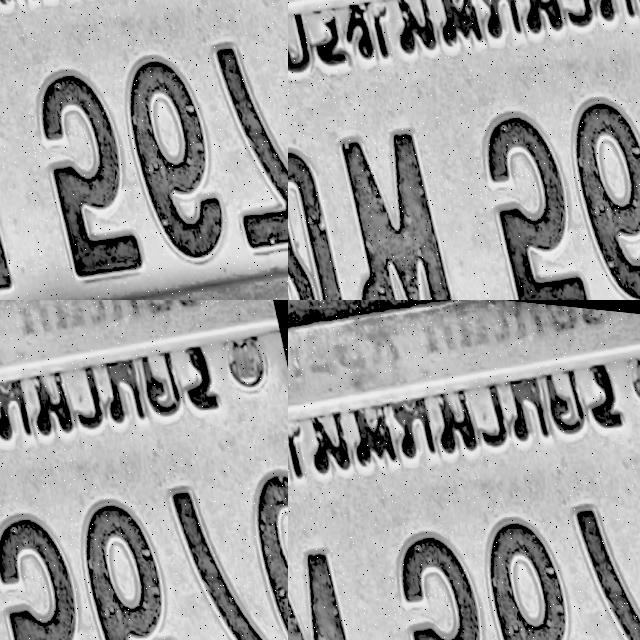license-plate: (288, 300, 640, 640)
